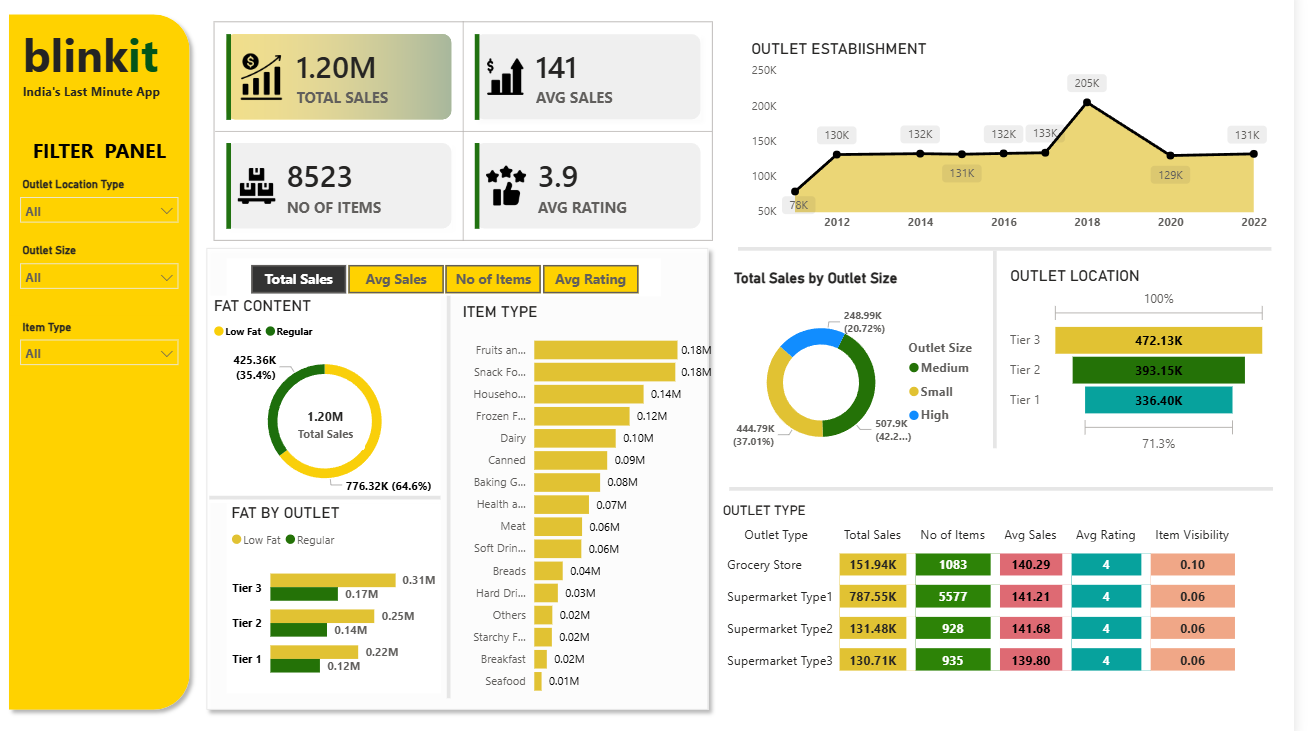

This screenshot's page, from the dashboard's own definition file:
{"tool":"powerbi","page":{"name":"Page 1","canvas":[1400,800],"ordinal":0},"visuals":[{"type":"shape","box":[13.4,14.7,211.8,764.1],"z":0},{"type":"textbox","box":[31.5,30,166.6,79.5],"z":1000},{"type":"textbox","box":[31.5,93.1,205.6,42],"z":2000},{"type":"cardVisual","fields":{"Data":["BlinkIT Grocery Data.Total Sales","BlinkIT Grocery Data.Avg Sales","BlinkIT Grocery Data.No of Items","BlinkIT Grocery Data.Avg Rating"]},"box":[225.1,15,570.3,270.2],"z":3000},{"type":"shape","box":[225.2,265.4,556.3,513.4],"z":4000},{"type":"donutChart","title":"FAT CONTENT","fields":{"Y":["BlinkIT Grocery Data.Total Sales"],"Category":["BlinkIT Grocery Data.Item Fat Content"]},"box":[237.3,325.7,248,222.5],"z":5000},{"type":"slicer","fields":{"Values":["Metrics.Metrics"]},"box":[256.6,285.2,465.3,40.5],"z":6000},{"type":"cardVisual","fields":{"Data":["BlinkIT Grocery Data.Total Sales"]},"box":[308.3,423.6,107.2,79.1],"z":7000},{"type":"clusteredBarChart","title":"FAT BY OUTLET","fields":{"Y":["BlinkIT Grocery Data.Total Sales"],"Category":["BlinkIT Grocery Data.Outlet Location Type"],"Series":["BlinkIT Grocery Data.Item Fat Content"]},"box":[256,548.3,229.2,203.8],"z":8000},{"type":"shape","box":[835.1,29.5,12.1,713.1],"z":9000},{"type":"shape","box":[794.9,522.8,583.1,20.1],"z":10000},{"type":"shape","box":[469.2,325.7,49.6,431.6],"z":11000},{"type":"barChart","title":"ITEM TYPE","fields":{"Y":["BlinkIT Grocery Data.Total Sales"],"Category":["BlinkIT Grocery Data.Item Type"]},"box":[504,332.4,277.5,431.6],"z":12000},{"type":"shape","box":[794.9,29.5,593.8,749.3],"z":13000},{"type":"lineChart","title":"OUTLET ESTABIISHMENT","fields":{"Category":["BlinkIT Grocery Data.Outlet Establishment Year"],"Y":["BlinkIT Grocery Data.Total Sales"]},"box":[813.7,50.9,563,214.5],"z":14000},{"type":"shape","box":[804.3,265.4,572.4,20.1],"z":15000},{"type":"donutChart","fields":{"Category":["BlinkIT Grocery Data.Outlet Size"],"Y":["BlinkIT Grocery Data.Total Sales"]},"box":[794.9,297.6,288.2,225.2],"z":16000},{"type":"shape","box":[1064.3,277.5,30.8,211.8],"z":17000},{"type":"funnel","title":"OUTLET LOCATION","fields":{"Y":["BlinkIT Grocery Data.Total Sales"],"Category":["BlinkIT Grocery Data.Outlet Location Type"]},"box":[1091.2,293.6,285.5,205.1],"z":18000},{"type":"pivotTable","title":"OUTLET TYPE","fields":{"Rows":["BlinkIT Grocery Data.Outlet Type"],"Values":["BlinkIT Grocery Data.Total Sales","BlinkIT Grocery Data.No of Items","BlinkIT Grocery Data.Avg Sales","BlinkIT Grocery Data.Avg Rating","Avg(BlinkIT Grocery Data.Item Visibility)"]},"box":[782.8,546.9,595.2,217.2],"z":19000},{"type":"shape","box":[237.3,532.2,248,20.1],"z":20000},{"type":"slicer","fields":{"Values":["BlinkIT Grocery Data.Outlet Location Type"]},"box":[24.1,194.4,190.3,71],"z":21000},{"type":"slicer","fields":{"Values":["BlinkIT Grocery Data.Outlet Size"]},"box":[24.1,265.4,190.3,71],"z":22000},{"type":"slicer","fields":{"Values":["BlinkIT Grocery Data.Item Type"]},"box":[24.1,347.2,190.3,71],"z":23000},{"type":"textbox","box":[24.1,150.1,190.3,44.2],"z":24000}]}

Visuals, with their boxes in screenshot pixels (x1, y1, x2, y2), scaled from the page's 1400x800 canvas onto the 1308x731 screenshot:
shape: l=13, t=13, r=210, b=712
textbox: l=29, t=27, r=185, b=100
textbox: l=29, t=85, r=222, b=123
cardVisual - BlinkIT Grocery Data.Total Sales x BlinkIT Grocery Data.Avg Sales: l=210, t=14, r=743, b=261
shape: l=210, t=243, r=730, b=712
"FAT CONTENT" donutChart: l=222, t=298, r=453, b=501
slicer - Metrics.Metrics: l=240, t=261, r=674, b=298
cardVisual - BlinkIT Grocery Data.Total Sales: l=288, t=387, r=388, b=459
"FAT BY OUTLET" clusteredBarChart: l=239, t=501, r=453, b=687
shape: l=780, t=27, r=792, b=679
shape: l=743, t=478, r=1287, b=496
shape: l=438, t=298, r=485, b=692
"ITEM TYPE" barChart: l=471, t=304, r=730, b=698
shape: l=743, t=27, r=1297, b=712
"OUTLET ESTABIISHMENT" lineChart: l=760, t=47, r=1286, b=243
shape: l=751, t=243, r=1286, b=261
donutChart - BlinkIT Grocery Data.Outlet Size x BlinkIT Grocery Data.Total Sales: l=743, t=272, r=1012, b=478
shape: l=994, t=254, r=1023, b=447
"OUTLET LOCATION" funnel: l=1019, t=268, r=1286, b=456
"OUTLET TYPE" pivotTable: l=731, t=500, r=1287, b=698
shape: l=222, t=486, r=453, b=505
slicer - BlinkIT Grocery Data.Outlet Location Type: l=23, t=178, r=200, b=243
slicer - BlinkIT Grocery Data.Outlet Size: l=23, t=243, r=200, b=307
slicer - BlinkIT Grocery Data.Item Type: l=23, t=317, r=200, b=382
textbox: l=23, t=137, r=200, b=178
